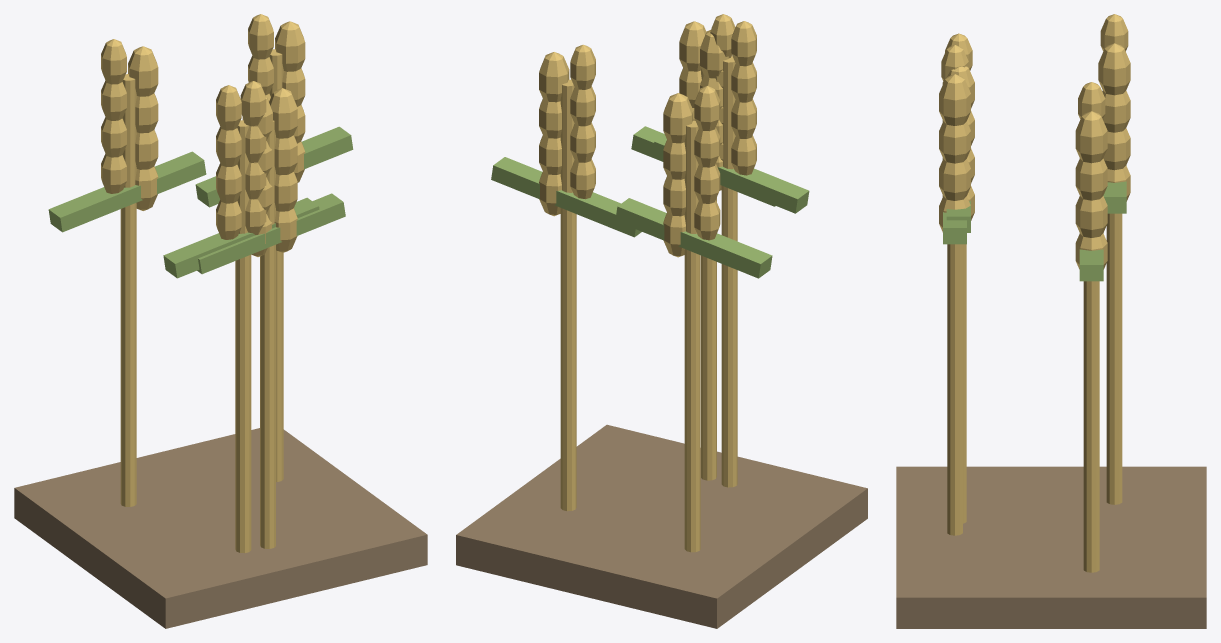
File: rice-original.glb
3 renders of one model, left to right at view 1: azimuth 30°, elevation 25°; view 2: azimuth 150°, elevation 25°; view 3: azimuth 270°, elevation 25°, orthographic. The views are drawn at different scales.
Parts seen in each view (by area): view 1: rice-mature; view 2: rice-mature; view 3: rice-mature.
Part boxes in pixels (x1=…): rice-mature: x1=14, y1=14, x2=427, y2=628; rice-mature: x1=456, y1=14, x2=867, y2=628; rice-mature: x1=896, y1=14, x2=1206, y2=628.
Bounding box in the file's own units: 0.4842 × 0.819 × 0.45.
